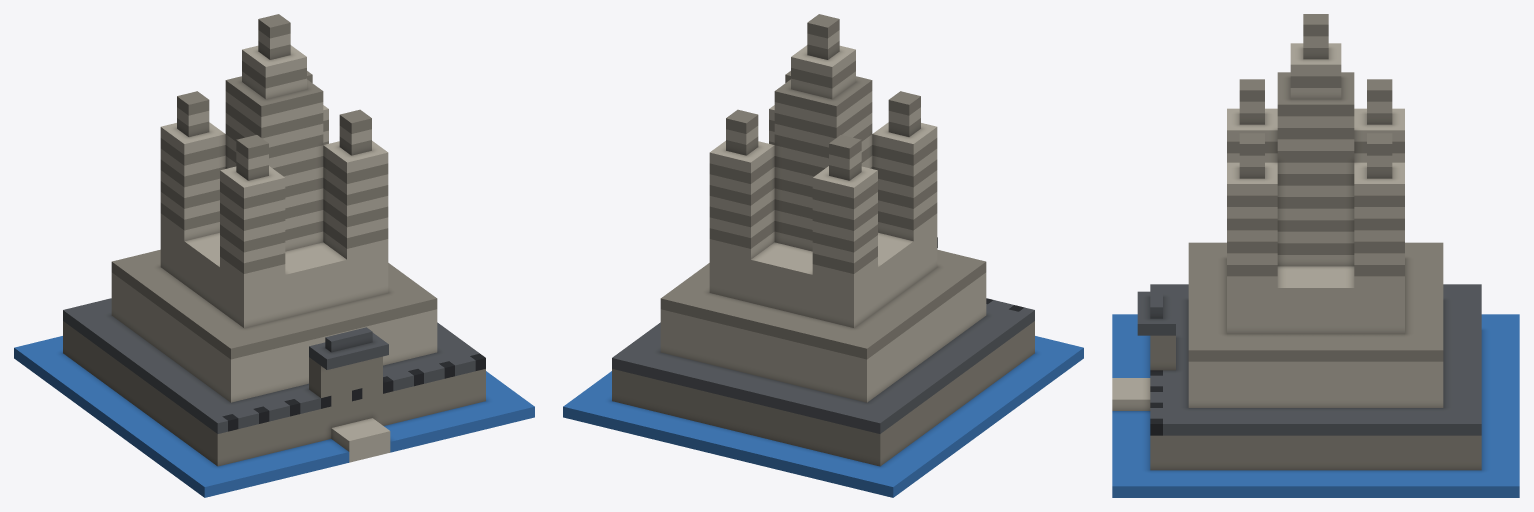
File: w_angkor_wat.glb
3 views of the same model, side by side, from view 1: azimuth 30°, elevation 25°; view 2: azimuth 150°, elevation 25°; view 3: azimuth 270°, elevation 25° (orthographic). The views are drawn at different scales.
Parts seen in each view (by area): view 1: w_angkor_wat_body; view 2: w_angkor_wat_body; view 3: w_angkor_wat_body.
Boxes of the visible parts, bbox=[...] form: w_angkor_wat_body: bbox=[14, 14, 534, 497]; w_angkor_wat_body: bbox=[563, 14, 1083, 497]; w_angkor_wat_body: bbox=[1112, 14, 1519, 497].
Size of the model in its own units: 2 by 2.12 by 2.
1 material, 1 textured.
